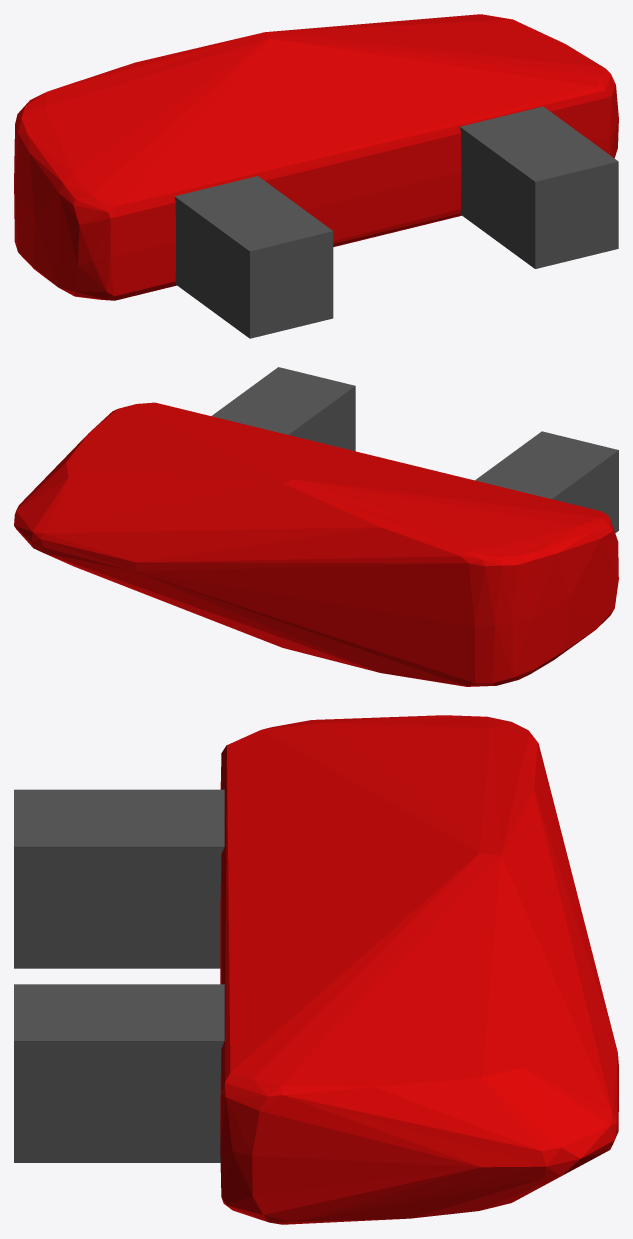
File: gripper-1.obj
3 views of the same model, one above another, from view 1: azimuth 30°, elevation 25°; view 2: azimuth 150°, elevation 25°; view 3: azimuth 270°, elevation 25° (orthographic). The views are drawn at different scales.
Size of the model in its own units: 0.2044 by 0.0633 by 0.1394.
